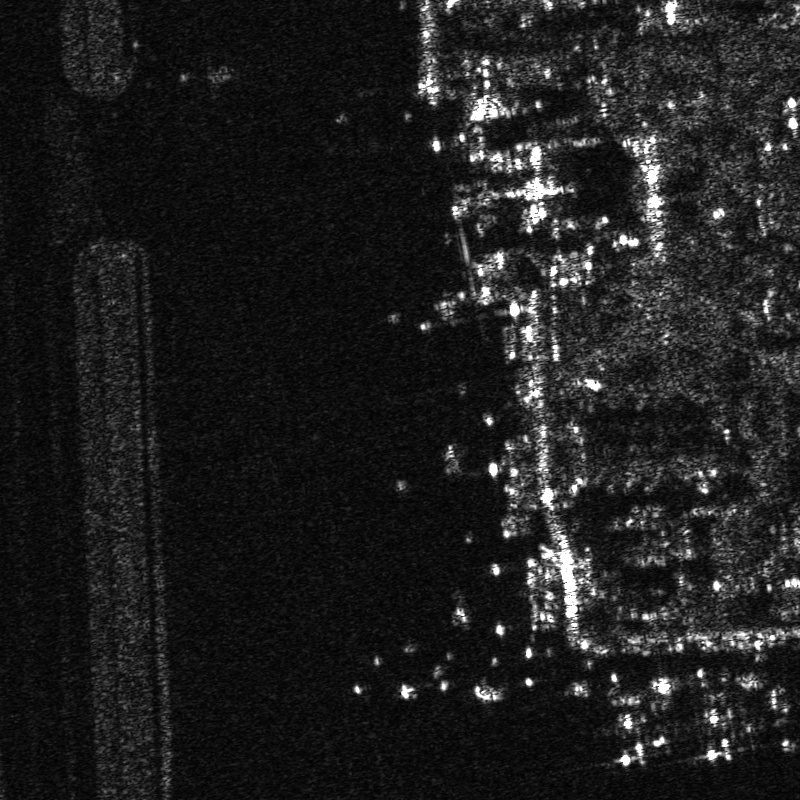Boeing737: (588, 687, 677, 768)
other: (685, 688, 756, 767), (172, 53, 237, 104)
